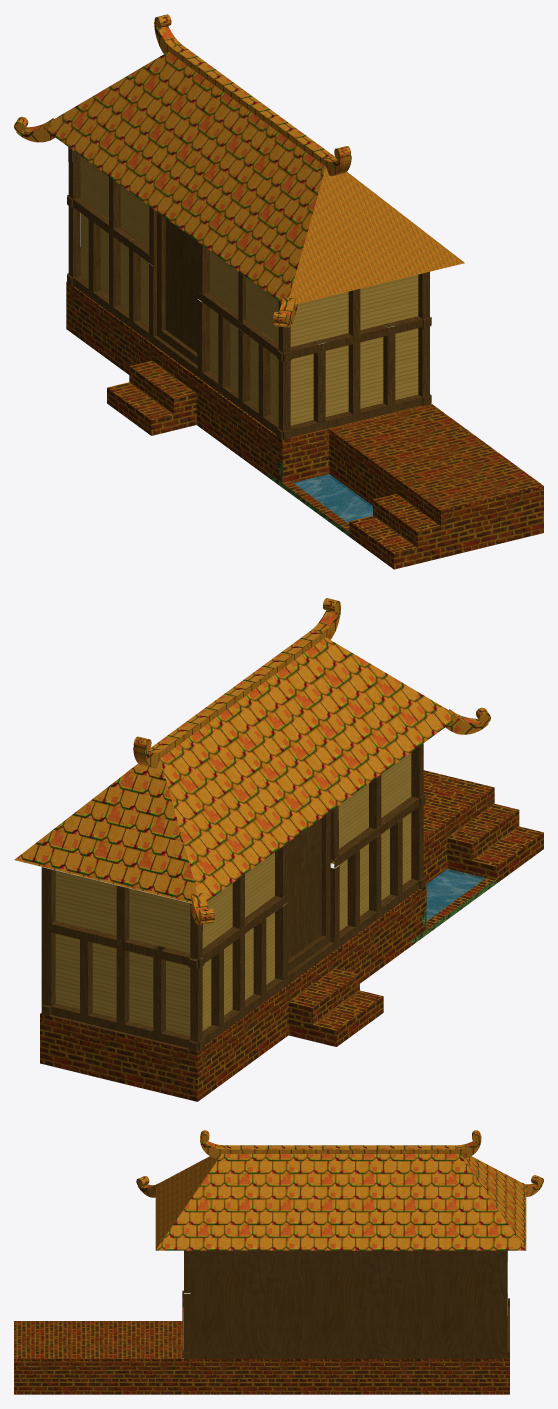
The model's file is house.gltf.
The picture shows the model from 3 angles, top to bottom: view 1: azimuth 30°, elevation 25°; view 2: azimuth 150°, elevation 25°; view 3: azimuth 270°, elevation 25°; orthographic projection. The views are drawn at different scales.
Visible parts, largest first — view 1: Root Node, 5392, 5694, 13028, 12891, 1568; view 2: Root Node, 5392, 5694, 13028, 12891, 1568; view 3: Root Node, 5393, 5694, 1568.
Part boxes in pixels (box(x1,y1,x2,y2)): Root Node: box(66, 118, 543, 557); 5392: box(43, 51, 325, 306); 5694: box(129, 56, 464, 306); 13028: box(349, 494, 440, 569); 12891: box(107, 361, 196, 435); 1568: box(171, 45, 333, 164); Root Node: box(14, 743, 543, 1101); 5392: box(160, 635, 459, 903); 5694: box(14, 759, 200, 904); 13028: box(447, 804, 543, 882); 12891: box(289, 968, 383, 1046); 1568: box(152, 630, 322, 755); Root Node: box(14, 1250, 509, 1394); 5393: box(155, 1151, 525, 1250); 5694: box(155, 1154, 526, 1249); 1568: box(226, 1145, 455, 1153).
Bounding box in the file's own units: 2.79 × 3.95 × 8.09.
Materials: 988 (430 with a texture image).
